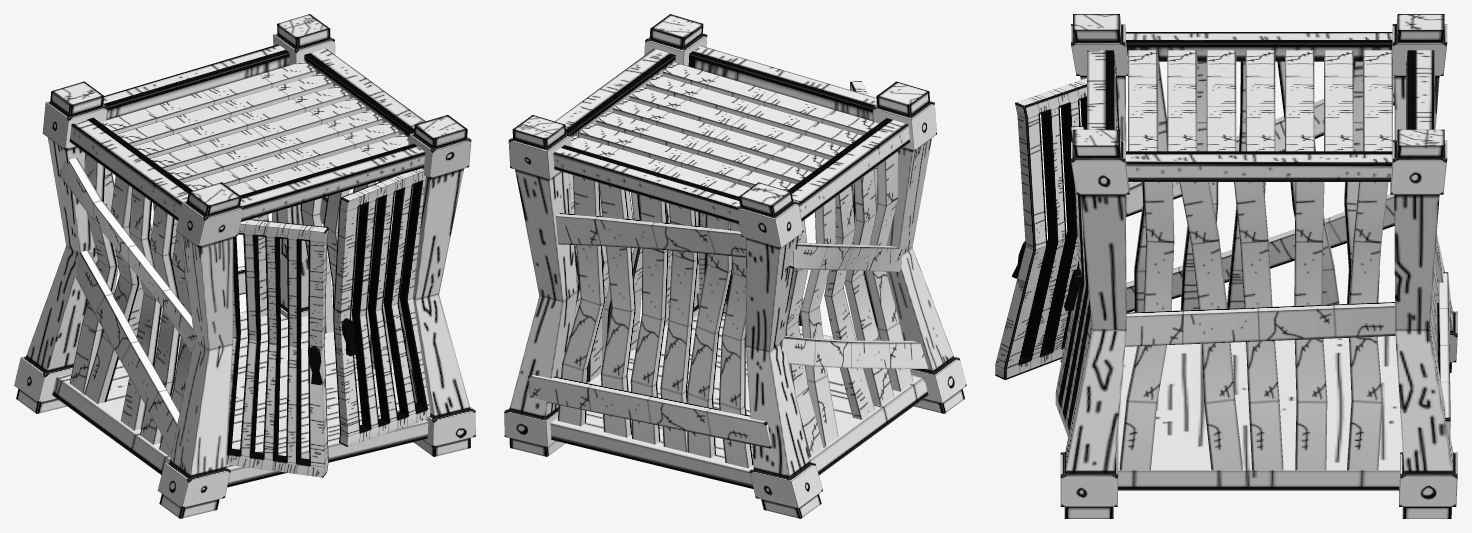
File: Cage.fbx
3 renders of one model, left to right at view 1: azimuth 30°, elevation 25°; view 2: azimuth 150°, elevation 25°; view 3: azimuth 270°, elevation 25°, orthographic. The views are drawn at different scales.
Parts seen in each view (by area): view 1: pCube48; view 2: pCube48; view 3: pCube48.
Part boxes in pixels (x1=…): pCube48: x1=14, y1=14, x2=475, y2=518; pCube48: x1=504, y1=14, x2=966, y2=518; pCube48: x1=995, y1=14, x2=1457, y2=518.
Bounding box in the file's own units: 8.49 × 8.72 × 9.8.
Materials: 1 (1 with a texture image).
